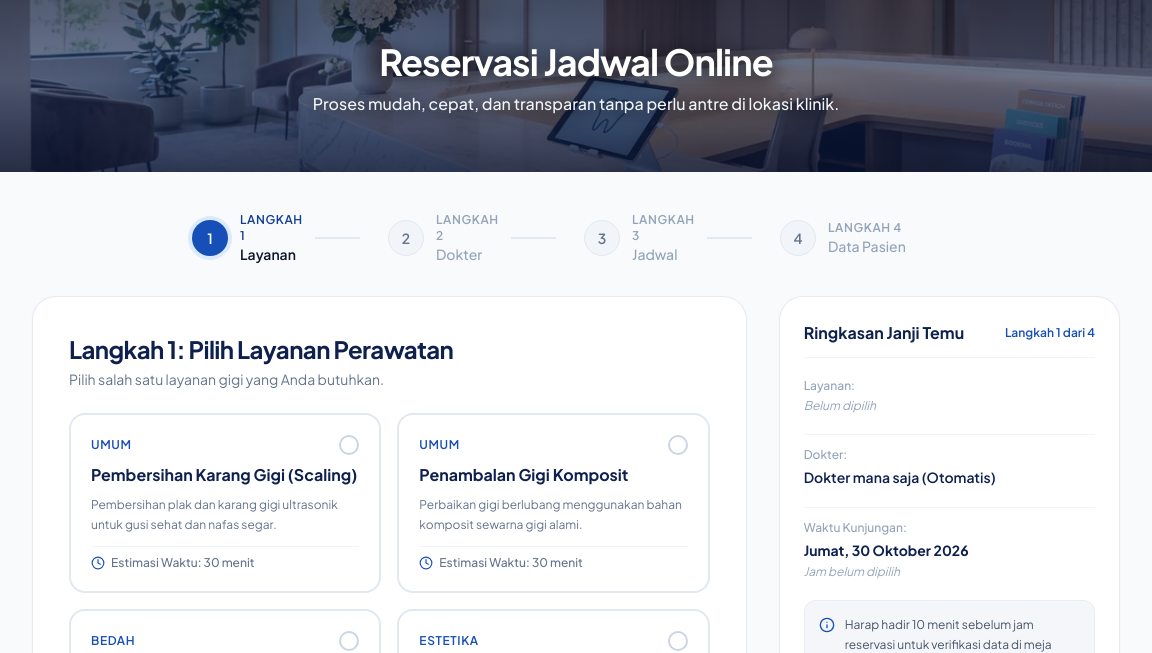
Test: Booking.vue (FR-7.1 - FR-7.11) › validates patient form fields on Step 4 (FR-7.6)
The image size is (1152, 653).
Click the element with class "cursor-pointer" that starts with "Umum" at {"x": 225, "y": 503}, box [69, 413, 381, 593]
(page scrolled)
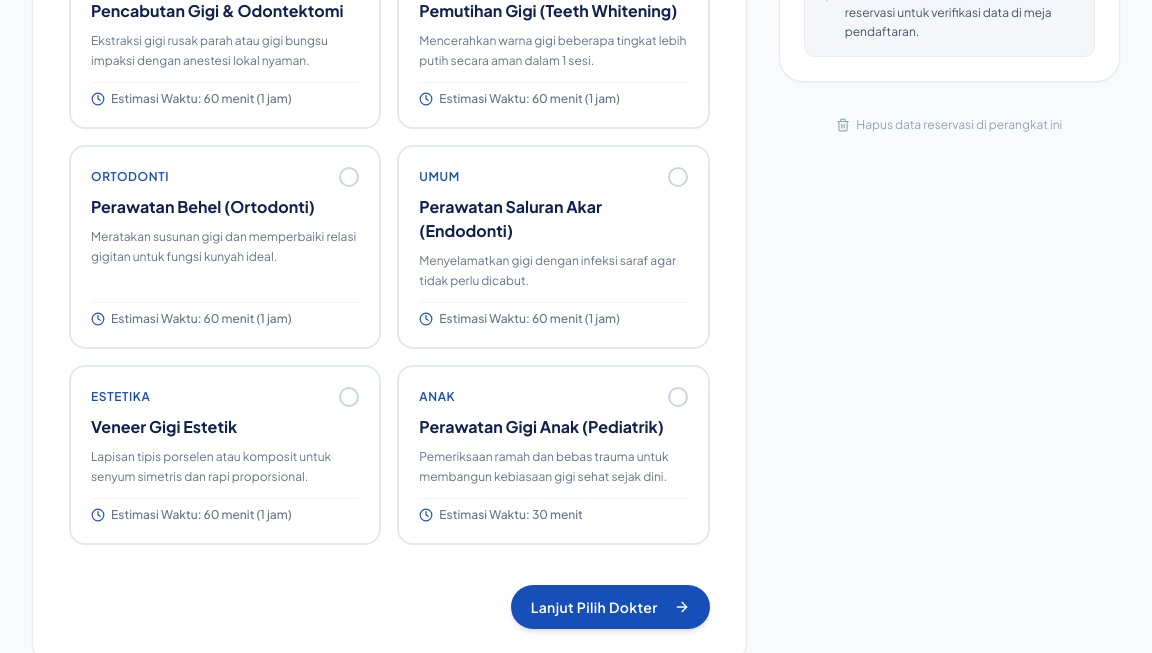
Click the button "Lanjut Pilih Dokter" at {"x": 610, "y": 607}, box [511, 585, 710, 629]
(page scrolled)
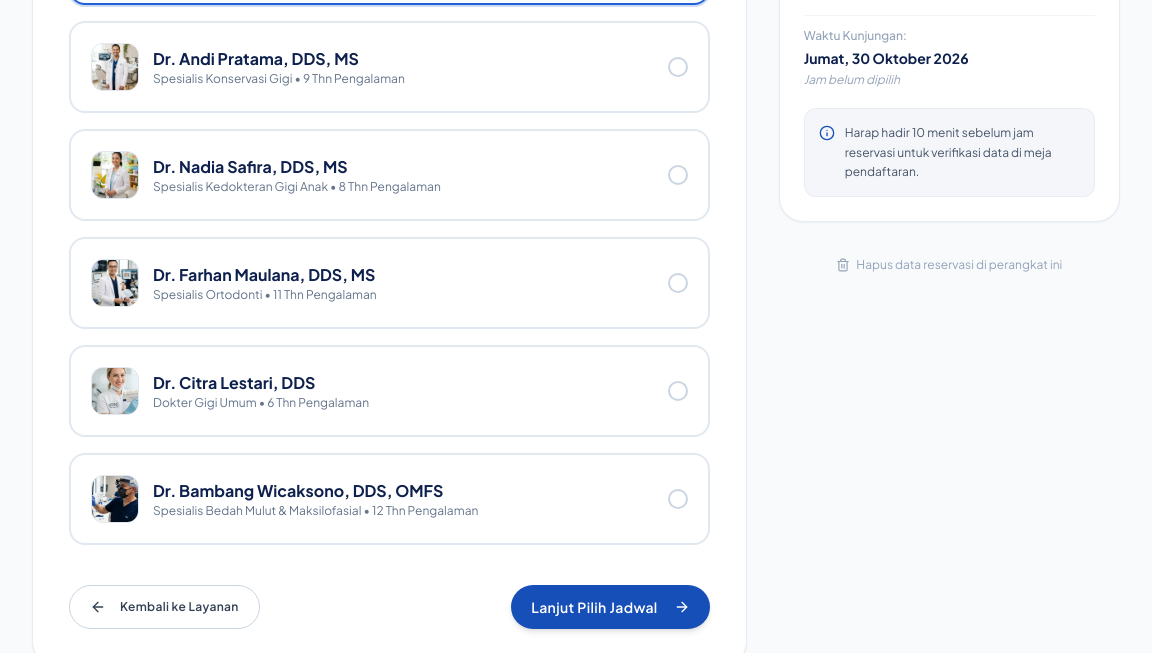
select any doctor and proceed
Click the button "Lanjut Pilih Jadwal" at {"x": 610, "y": 607}, box [511, 585, 710, 629]
(page scrolled)
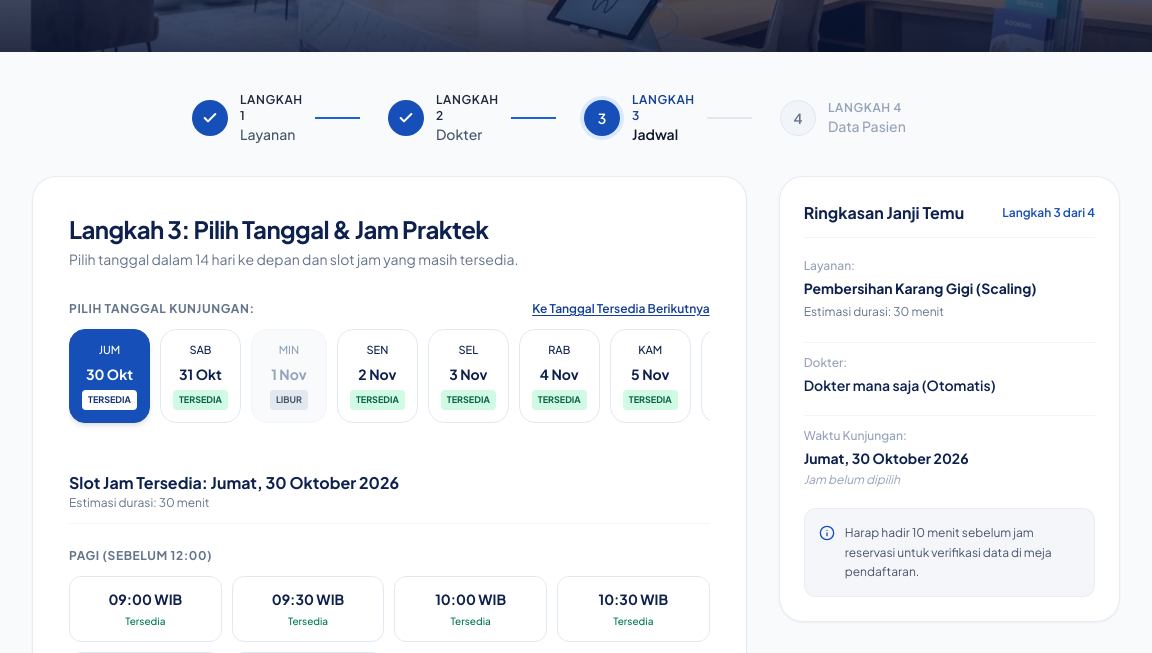
Now the text "Langkah 3: Pilih Tanggal & Jam Praktek" is shown, box [69, 214, 488, 244]
